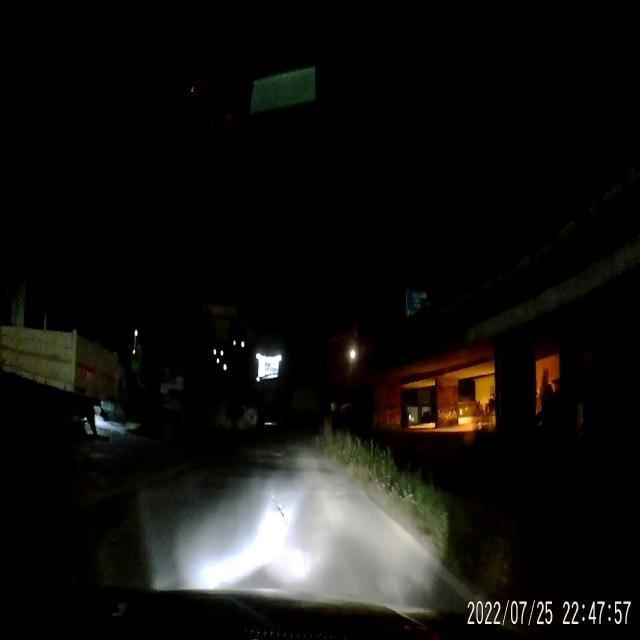Pothole: (272, 494, 292, 534)
